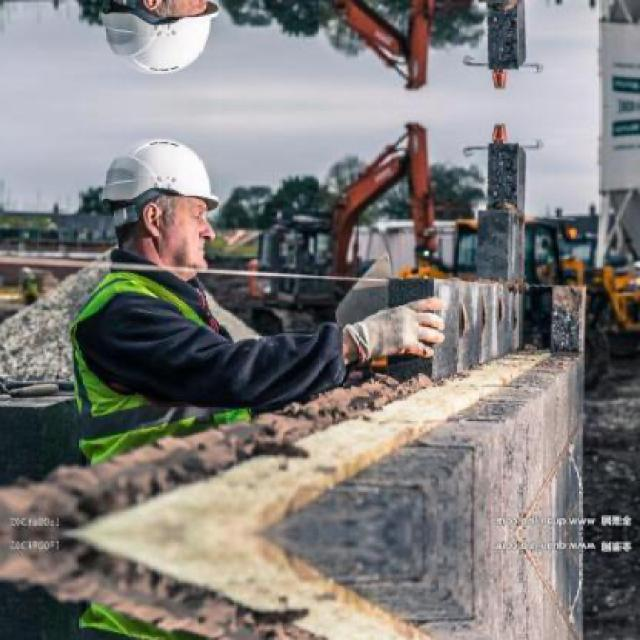con casco: (82, 132, 262, 314)
